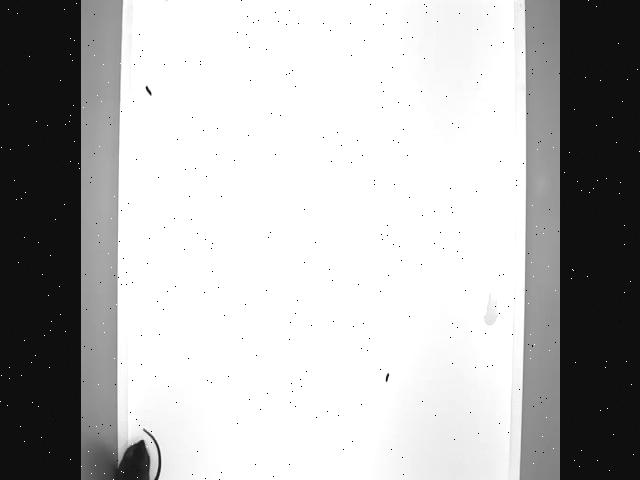Tikus: (113, 429, 163, 480)
